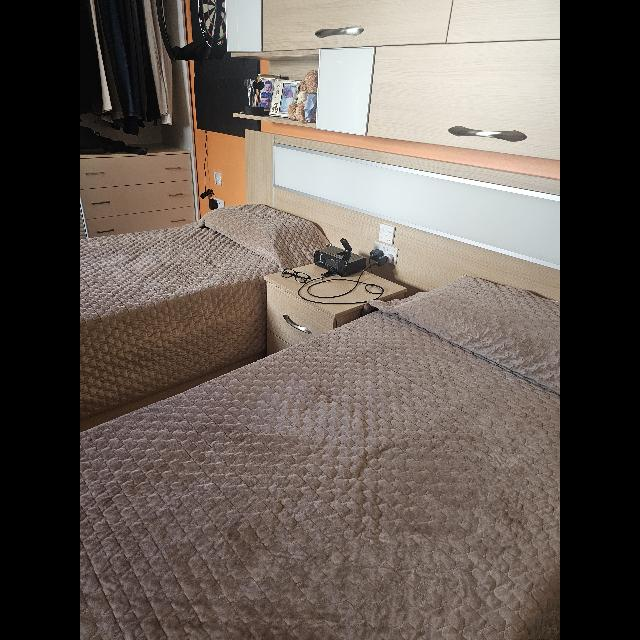glasses: (282, 268, 310, 284)
